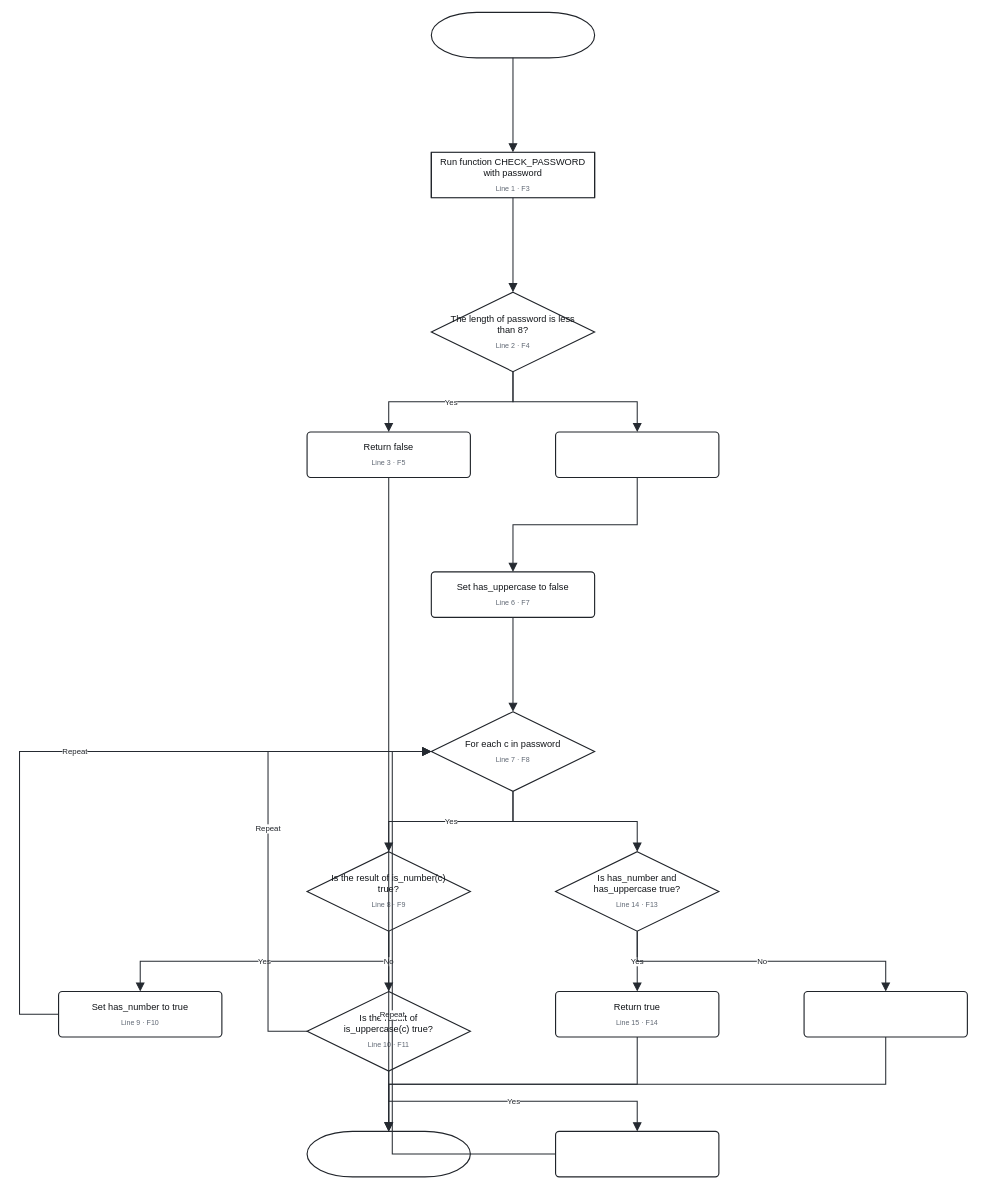
The diagram is 981 pixels wide and 1190 high, and some of its shapes have lost their labels. Each missing label, with the centre of its shape:
"End Line 1 · F2" belongs at (x=388, y=1153).
"Return false Line 17 · F15" belongs at (x=885, y=1014).
"Set has_number to false Line 5 · F6" belongs at (x=637, y=454).
"Set has_uppercase to true Line 11 · F12" belongs at (x=637, y=1153).
"Start Line 1 · F1" belongs at (x=512, y=35).
